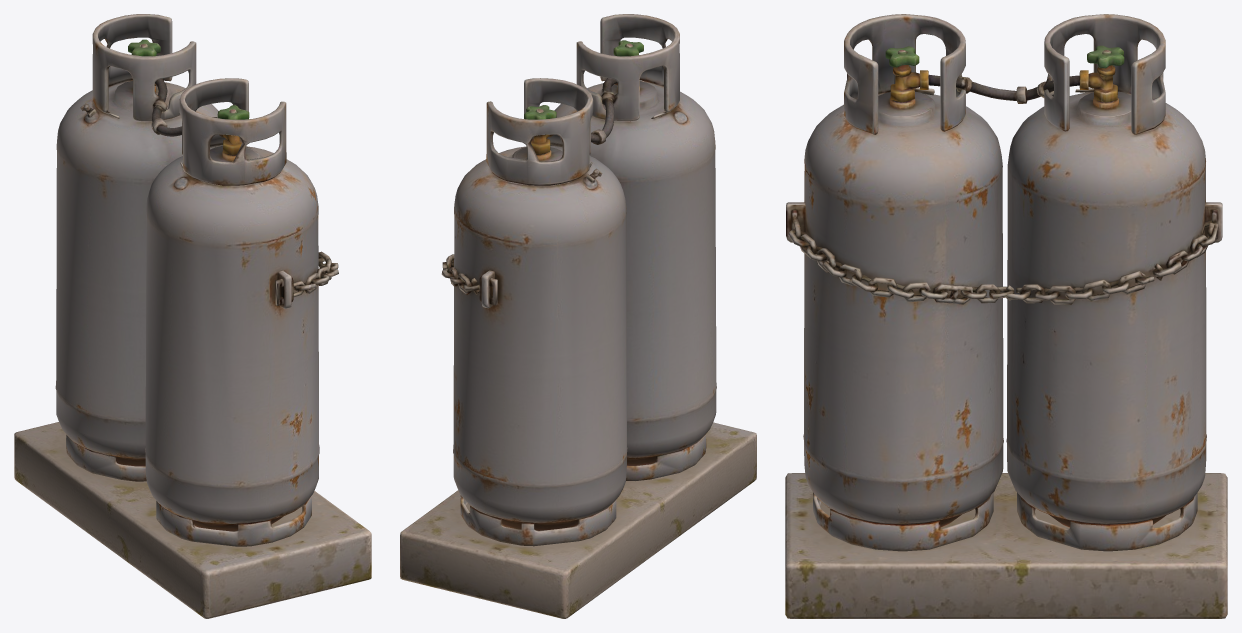
File: propane_tanks.glb
3 renders of one model, left to right at view 1: azimuth 30°, elevation 25°; view 2: azimuth 150°, elevation 25°; view 3: azimuth 270°, elevation 25°, orthographic. The views are drawn at different scales.
Parts seen in each view (by area): view 1: tripo_node_8dad11a6-a454-4066-a997-b167a1ea3f36; view 2: tripo_node_8dad11a6-a454-4066-a997-b167a1ea3f36; view 3: tripo_node_8dad11a6-a454-4066-a997-b167a1ea3f36.
Boxes of the visible parts, x1,y1,x2,y2 form: tripo_node_8dad11a6-a454-4066-a997-b167a1ea3f36: (14,14,371,618); tripo_node_8dad11a6-a454-4066-a997-b167a1ea3f36: (400,14,756,618); tripo_node_8dad11a6-a454-4066-a997-b167a1ea3f36: (785,14,1227,618).
Bounding box in the file's own units: 0.3813 × 0.9995 × 0.7534.
1 material, 1 textured.
